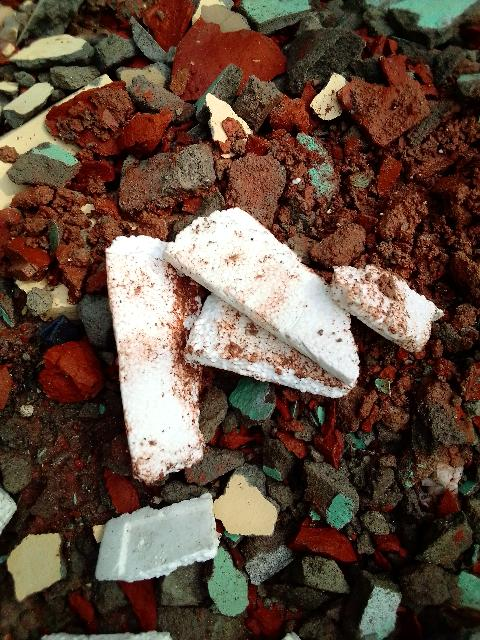cocksheet: (33, 158, 366, 480)
